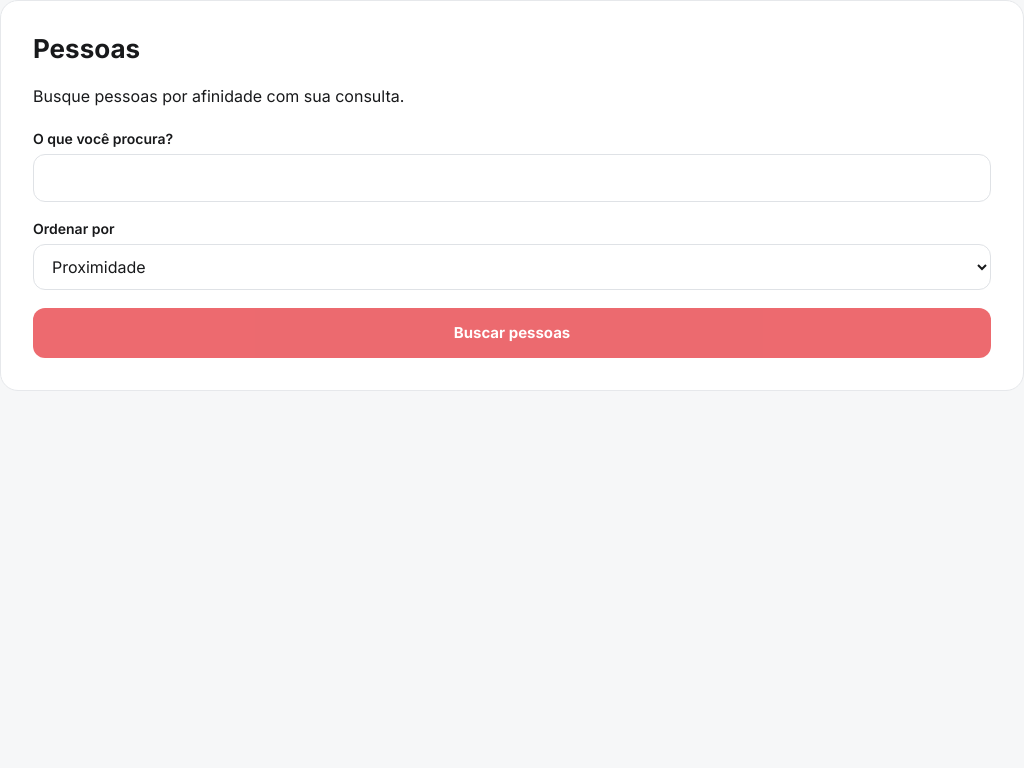
representa vínculo pending de me
The width and height of the screenshot is (1024, 768).
Type "tecnologia" into the field labelled "O que você procura?" at {"x": 512, "y": 178}, box left=33, top=154, right=991, bottom=202
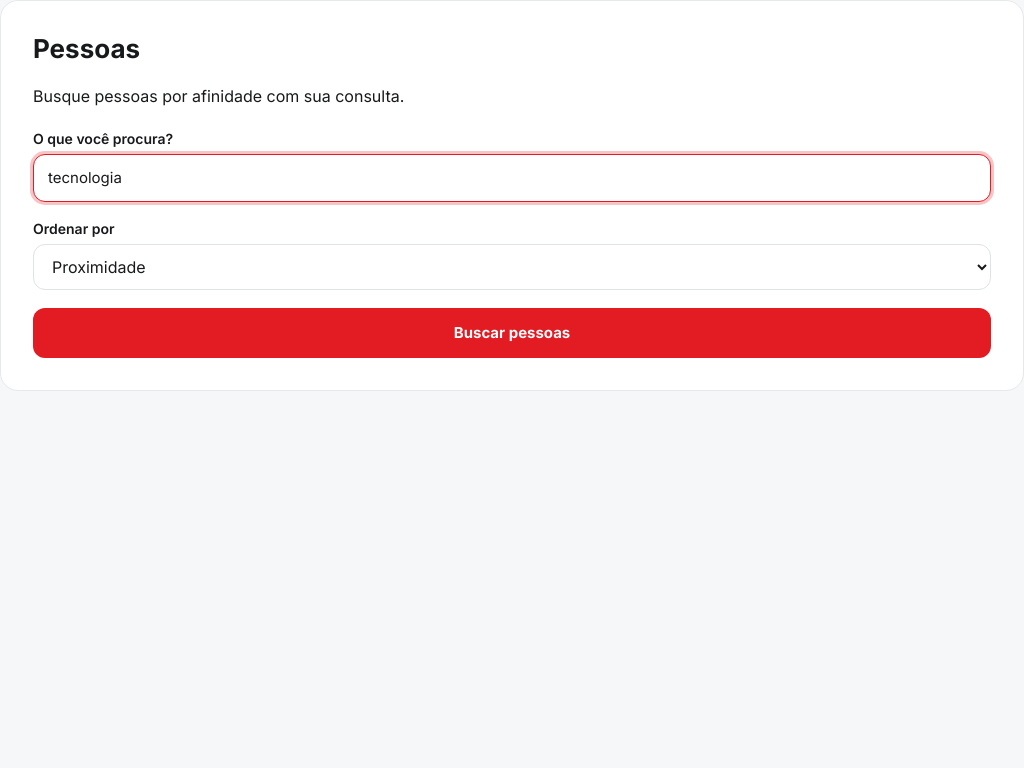
Click the button "Buscar pessoas" at {"x": 512, "y": 333}, box left=33, top=308, right=991, bottom=358
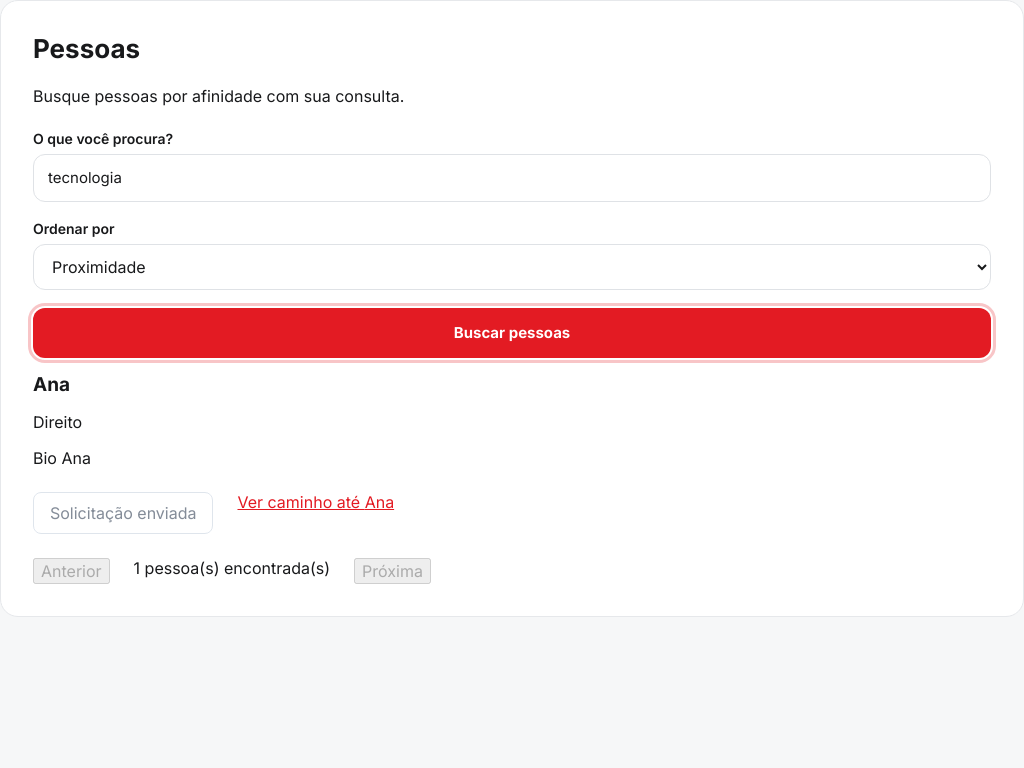
Expected: the heading "Ana" is shown, left=33, top=373, right=70, bottom=396
Expected: the button "Solicitação enviada" is disabled, left=33, top=492, right=214, bottom=534
